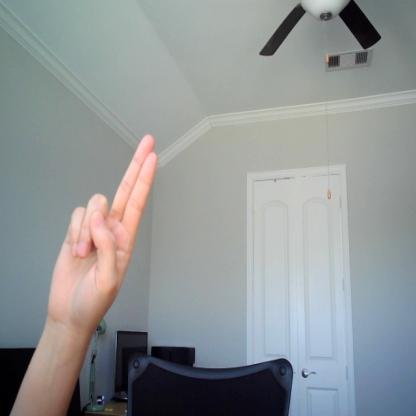U: (43, 133, 163, 331)
